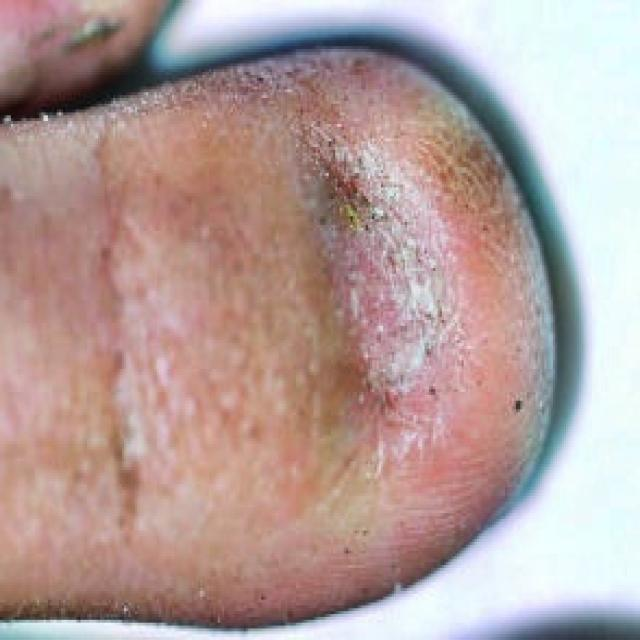Psoriasis-pictures-Lichen-Planus: (127, 38, 567, 476)
